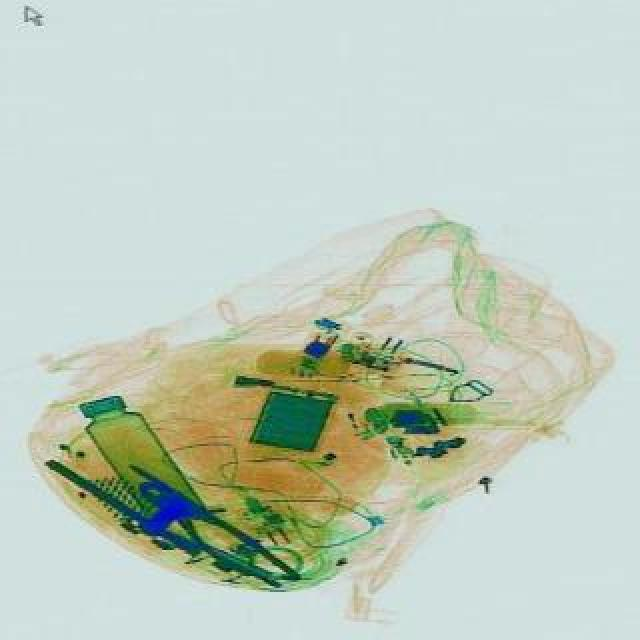wrench: (124, 468, 300, 604)
